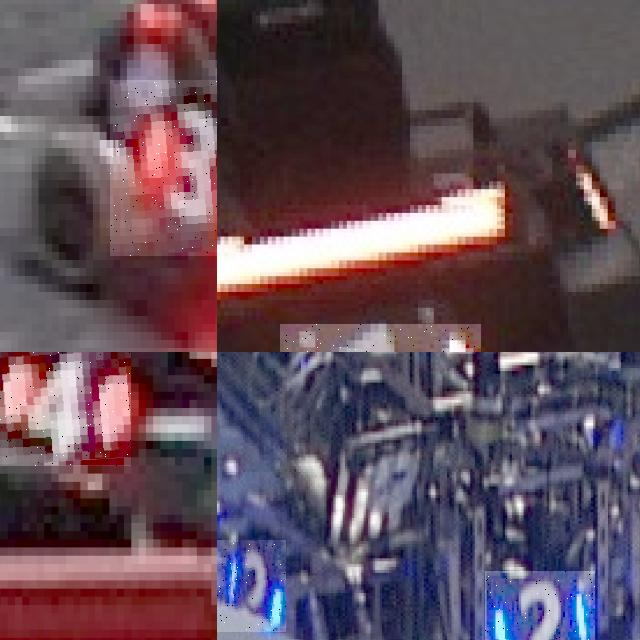B2: (485, 571, 594, 640), (217, 539, 286, 632)
R1: (279, 323, 481, 352)
R3: (110, 80, 217, 256)
R4: (0, 352, 131, 465)
